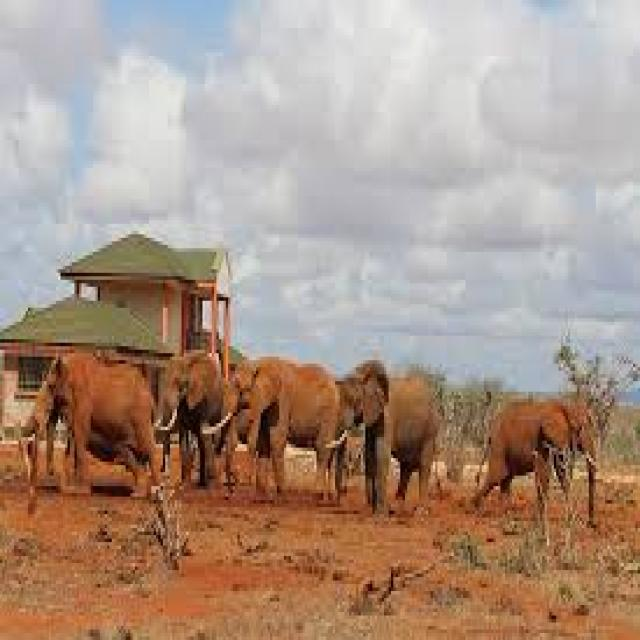Elephant: (16, 350, 161, 514), (200, 353, 340, 504), (465, 392, 596, 546), (324, 353, 439, 523), (154, 346, 226, 486)
